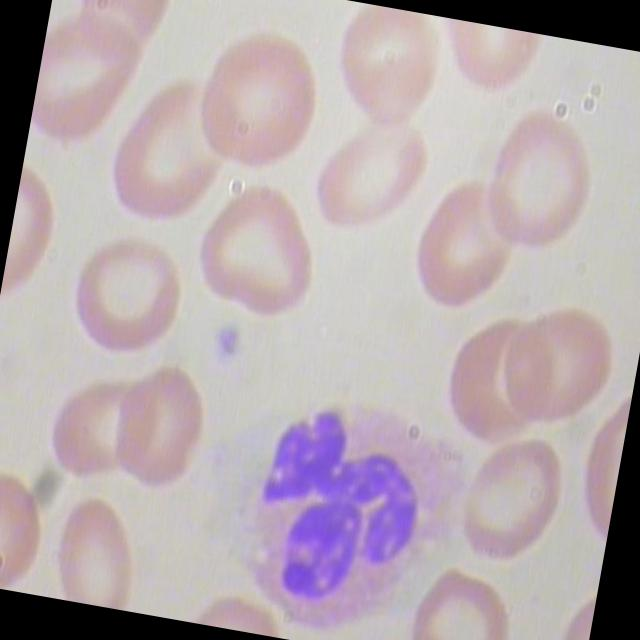RBC: (98, 59, 252, 240), (182, 165, 334, 343), (186, 15, 330, 182), (56, 213, 199, 379), (300, 97, 440, 261), (26, 3, 158, 170), (398, 165, 531, 328), (488, 294, 622, 449), (321, 0, 459, 148), (446, 429, 580, 578), (477, 107, 603, 260), (103, 358, 215, 494), (40, 359, 152, 495), (43, 483, 154, 612), (404, 553, 529, 640), (0, 461, 61, 595)
WBC: (189, 366, 485, 640)
